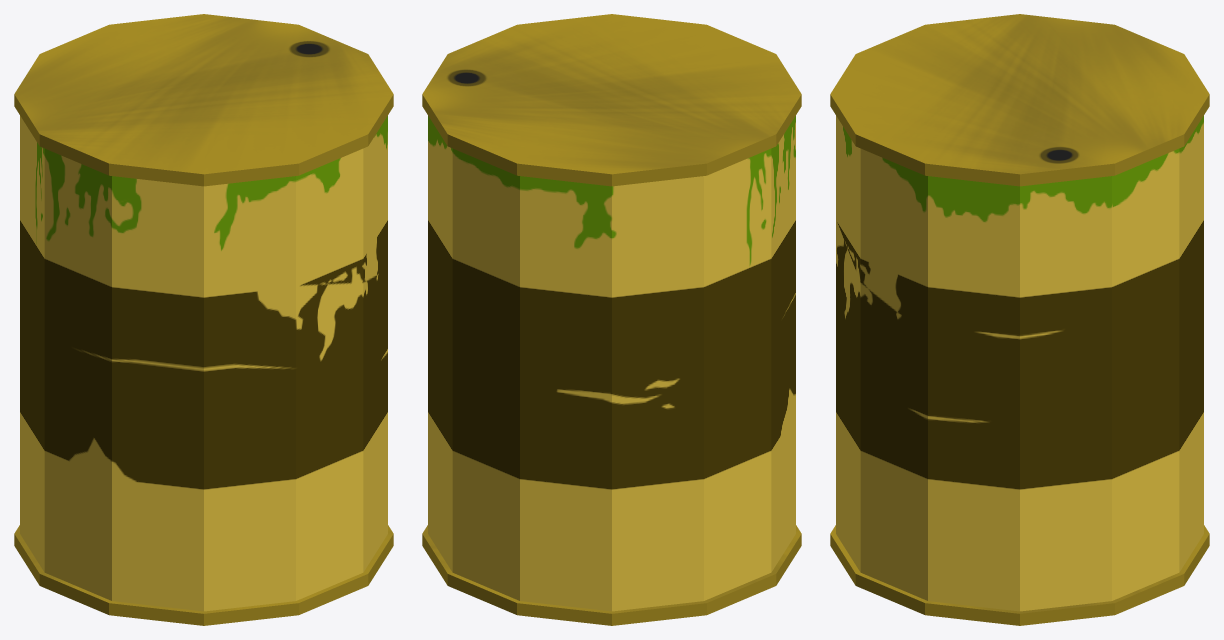
The model's file is Barrel.fbx.
3 renders of one model, left to right at view 1: azimuth 30°, elevation 25°; view 2: azimuth 150°, elevation 25°; view 3: azimuth 270°, elevation 25°, orthographic.
Visible parts, largest first — view 1: Barrel; view 2: Barrel; view 3: Barrel.
Part boxes in pixels (bbox=[...]): Barrel: bbox=[14, 14, 393, 625]; Barrel: bbox=[422, 14, 801, 625]; Barrel: bbox=[830, 14, 1209, 625].
Bounding box in the file's own units: 1.15 × 1.51 × 1.15.
